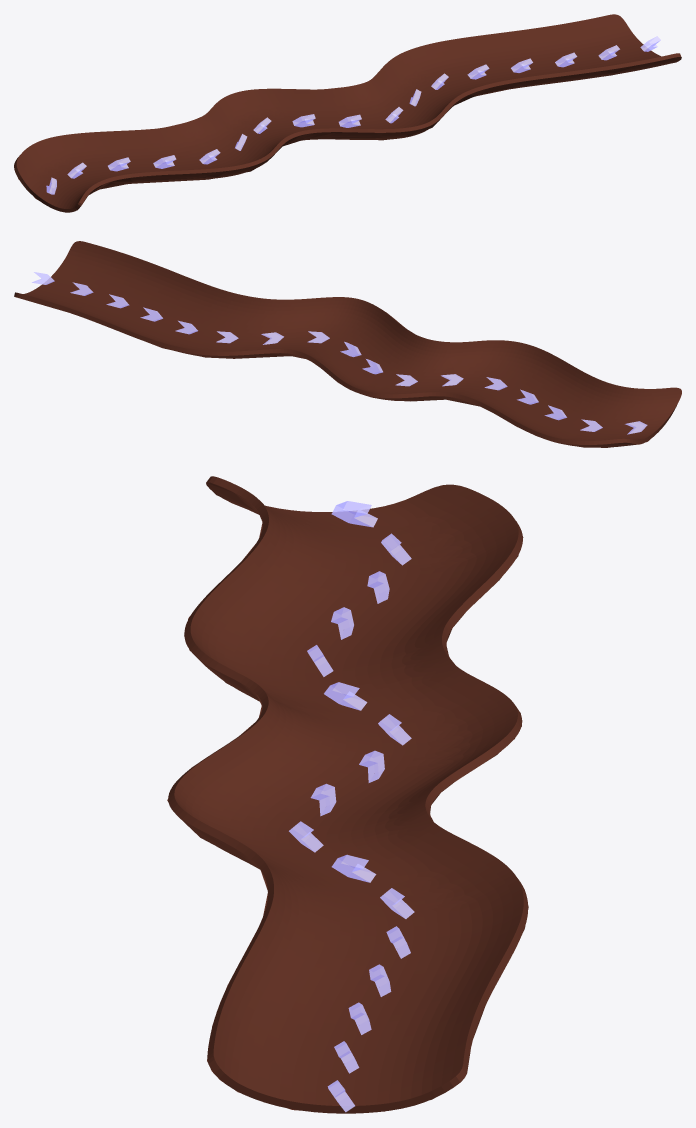
The model's file is space_course_4.glb.
3 views of the same model, one above another, from view 1: azimuth 30°, elevation 25°; view 2: azimuth 150°, elevation 25°; view 3: azimuth 270°, elevation 25° (orthographic). The views are drawn at different scales.
Visible parts, largest first — view 1: CourseFloor3, CourseFloor_Phys3; view 2: CourseFloor3, CourseFloor_Phys3; view 3: CourseFloor3, CourseFloor_Phys3.
Part boxes in pixels (bbox=[...]): CourseFloor3: bbox=[14, 14, 681, 212]; CourseFloor_Phys3: bbox=[17, 57, 681, 212]; CourseFloor3: bbox=[14, 241, 681, 447]; CourseFloor_Phys3: bbox=[18, 297, 649, 447]; CourseFloor3: bbox=[168, 476, 528, 1113]; CourseFloor_Phys3: bbox=[167, 482, 528, 1111].
Bounding box in the file's own units: 5.17 × 0.2085 × 1.3.
